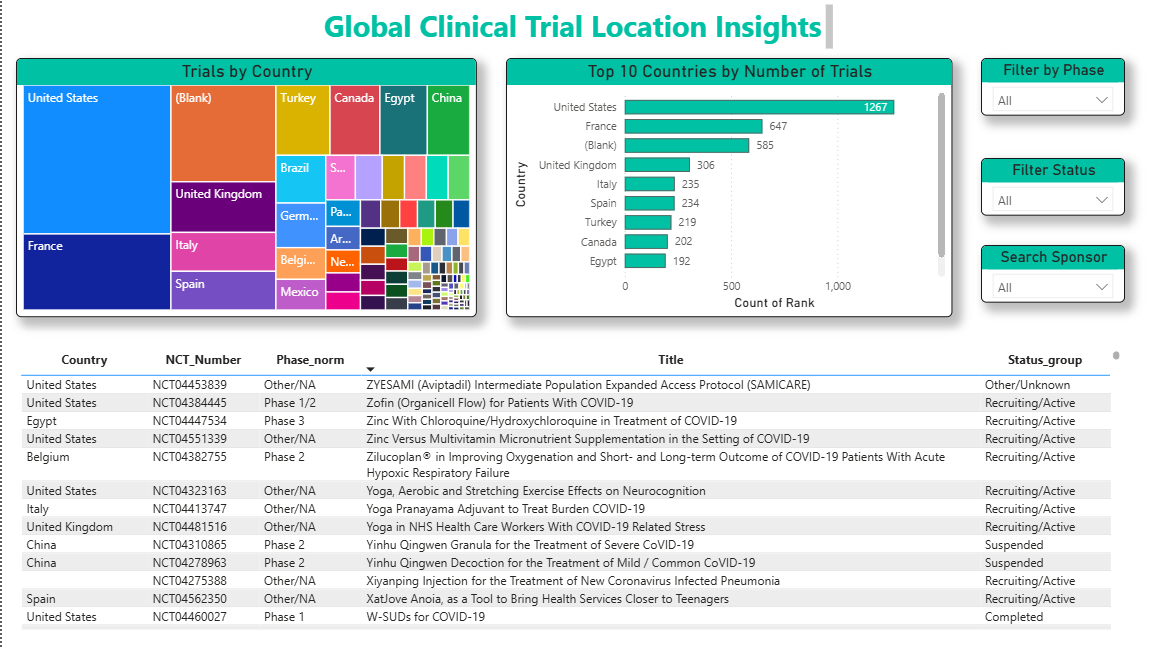

The dashboard page shown, as its layout file describes it:
{"tool":"powerbi","page":{"name":"Location Insights","canvas":[1280,720],"ordinal":4},"visuals":[{"type":"textbox","box":[352,0,576,64],"z":0},{"type":"treemap","title":"Trials by Country","fields":{"Group":["v_covid_clinical_trials.Country"],"Values":["CountNonNull(v_covid_clinical_trials.Rank)"]},"box":[16,64,512,288],"z":1},{"type":"clusteredBarChart","title":"Top 10 Countries by Number of Trials","fields":{"Category":["v_covid_clinical_trials.Country"],"Y":["CountNonNull(v_covid_clinical_trials.Rank)"]},"box":[560,64,496,288],"z":2},{"type":"tableEx","fields":{"Values":["v_covid_clinical_trials.Country","v_covid_clinical_trials.NCT_Number","v_covid_clinical_trials.Phase_norm","v_covid_clinical_trials.Title","v_covid_clinical_trials.Status_group"]},"box":[16,384,1232,320],"z":3},{"type":"slicer","title":"Filter by Phase","fields":{"Values":["v_covid_clinical_trials.Phase_norm"]},"box":[1088,64,160,64],"z":4},{"type":"slicer","title":"Filter Status","fields":{"Values":["v_covid_clinical_trials.Status_group"]},"box":[1088,176,160,64],"z":5},{"type":"slicer","title":"Search Sponsor","fields":{"Values":["v_covid_clinical_trials.Sponsor_Collaborators"]},"box":[1088,272,160,64],"z":6}]}

Visuals, with their boxes in screenshot pixels (x1, y1, x2, y2), scaled from the page's 1280x720 canvas onto the 1154x648 screenshot:
textbox: <region>317, 0, 837, 58</region>
"Trials by Country" treemap: <region>14, 58, 476, 317</region>
"Top 10 Countries by Number of Trials" clusteredBarChart: <region>505, 58, 952, 317</region>
tableEx - v_covid_clinical_trials.Country x v_covid_clinical_trials.NCT_Number: <region>14, 346, 1125, 634</region>
"Filter by Phase" slicer: <region>981, 58, 1125, 115</region>
"Filter Status" slicer: <region>981, 158, 1125, 216</region>
"Search Sponsor" slicer: <region>981, 245, 1125, 302</region>
